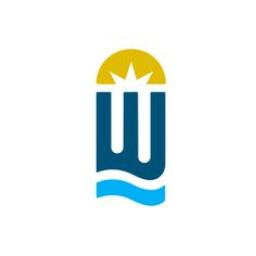w: (92, 88, 174, 182)
